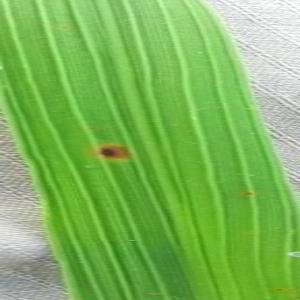0 BrownSpot: (91, 138, 140, 164), (271, 285, 287, 294), (245, 189, 256, 199)
